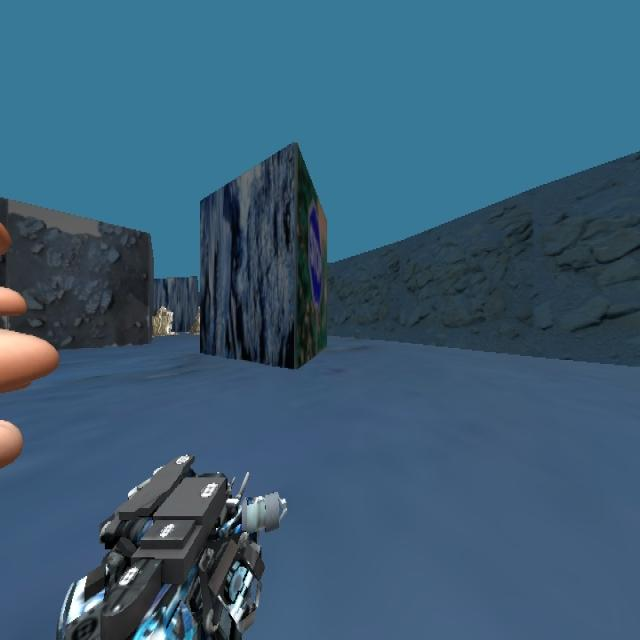Ice: (141, 294, 193, 346)
Mushroom: (0, 220, 59, 468)
Stop_Sign: (197, 140, 328, 369)
